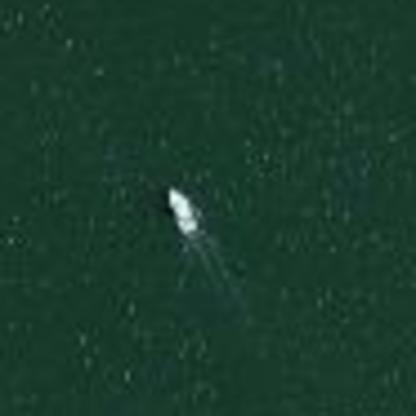ship: (158, 174, 208, 240)
